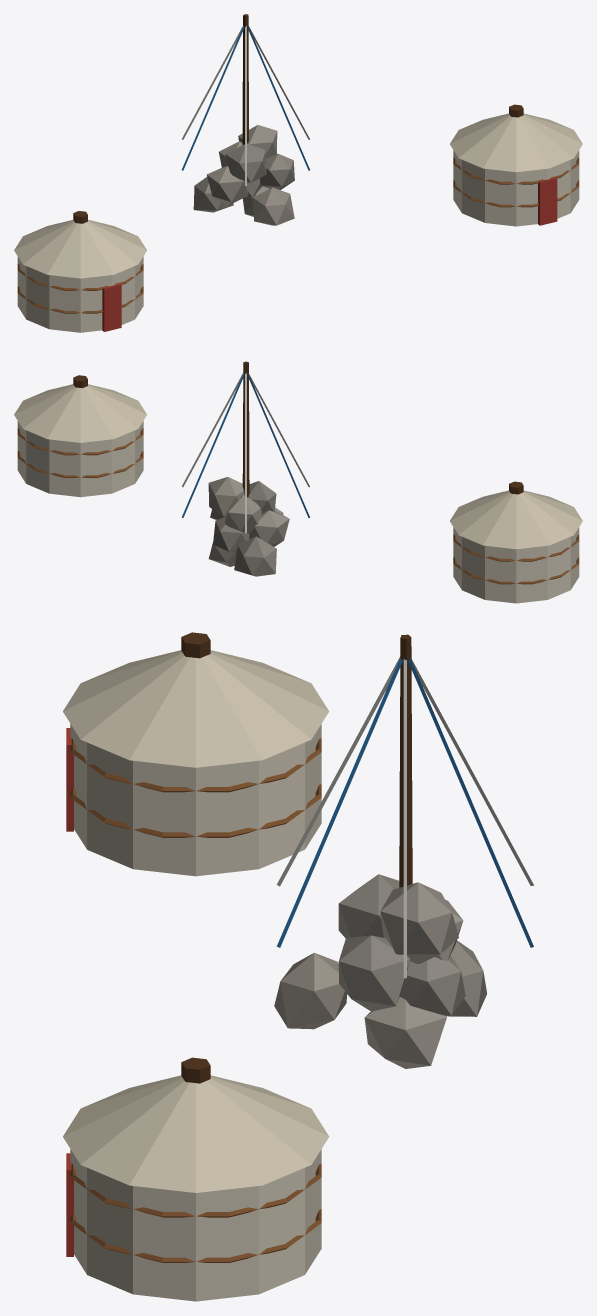
The model's file is orc_court_broken.glb.
3 views of the same model, one above another, from view 1: azimuth 30°, elevation 25°; view 2: azimuth 150°, elevation 25°; view 3: azimuth 270°, elevation 25° (orthographic). The views are drawn at different scales.
Parts seen in each view (by area): view 1: orc_court_piece3, orc_court_piece4, orc_court_piece5, orc_court_piece7, orc_court_piece8, orc_court_piece1, orc_court_piece2, orc_court_piece10, orc_court_piece6; view 2: orc_court_piece3, orc_court_piece6, orc_court_piece5, orc_court_piece4, orc_court_piece1, orc_court_piece8, orc_court_piece2; view 3: orc_court_piece4, orc_court_piece7, orc_court_piece3, orc_court_piece5, orc_court_piece1, orc_court_piece6, orc_court_piece13, orc_court_piece8, orc_court_piece12, orc_court_piece9.
Part boxes in pixels (box(x1,y1,x2,y2)): orc_court_piece3: box(14, 211, 110, 331); orc_court_piece4: box(478, 104, 582, 201); orc_court_piece5: box(182, 131, 309, 224); orc_court_piece7: box(71, 230, 146, 332); orc_court_piece8: box(453, 176, 577, 226); orc_court_piece1: box(182, 14, 309, 150); orc_court_piece2: box(297, 128, 489, 177); orc_court_piece10: box(491, 178, 556, 207); orc_court_piece6: box(450, 117, 493, 181); orc_court_piece3: box(450, 481, 582, 603); orc_court_piece6: box(17, 413, 136, 497); orc_court_piece5: box(209, 450, 309, 576); orc_court_piece4: box(14, 375, 146, 451); orc_court_piece1: box(181, 361, 293, 533); orc_court_piece8: box(111, 425, 143, 493); orc_court_piece2: box(97, 412, 145, 443); orc_court_piece4: box(63, 1057, 312, 1301); orc_court_piece7: box(63, 680, 246, 876); orc_court_piece3: box(83, 632, 328, 870); orc_court_piece5: box(276, 810, 487, 1063); orc_court_piece1: box(303, 634, 533, 978); orc_court_piece6: box(222, 1081, 329, 1298); orc_court_piece13: box(164, 696, 264, 790); orc_court_piece8: box(66, 1191, 126, 1291); orc_court_piece12: box(274, 986, 329, 1029); orc_court_piece9: box(316, 998, 431, 1068).
Bounding box in the file's own units: 6.07 × 2.19 × 2.25.
